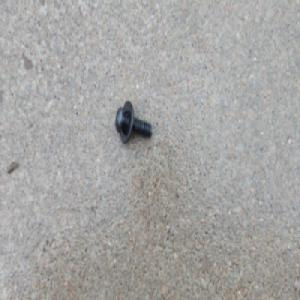BoltWasher: (115, 99, 153, 144)
